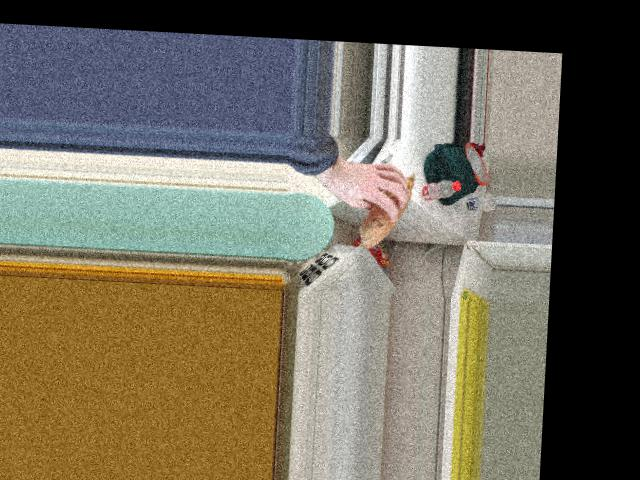sweet_potato: (358, 167, 412, 247)
